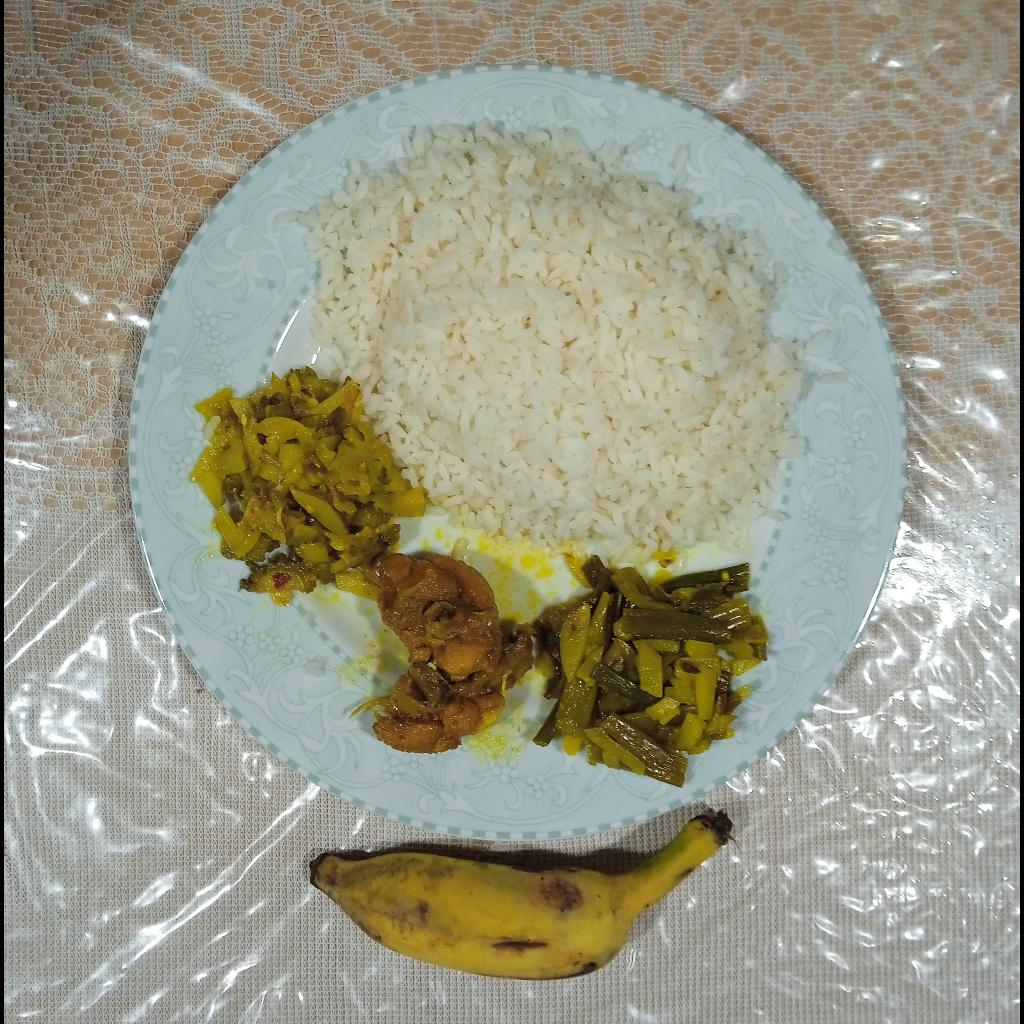banana: (302, 813, 731, 975)
cabbage: (202, 374, 413, 595)
chicken: (350, 552, 519, 755)
rice: (300, 123, 811, 553)
vegetable: (542, 563, 758, 791)
